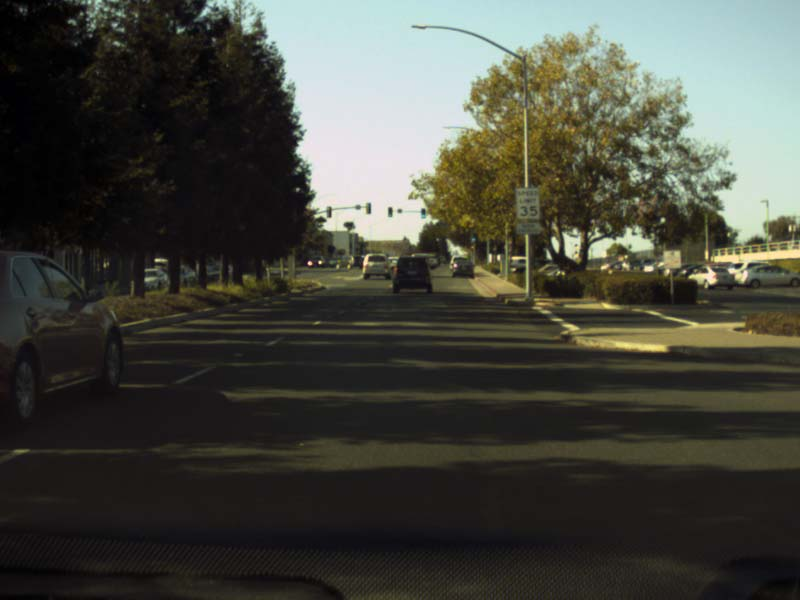Green: (471, 231, 476, 242), (420, 207, 425, 218), (387, 207, 392, 217)
